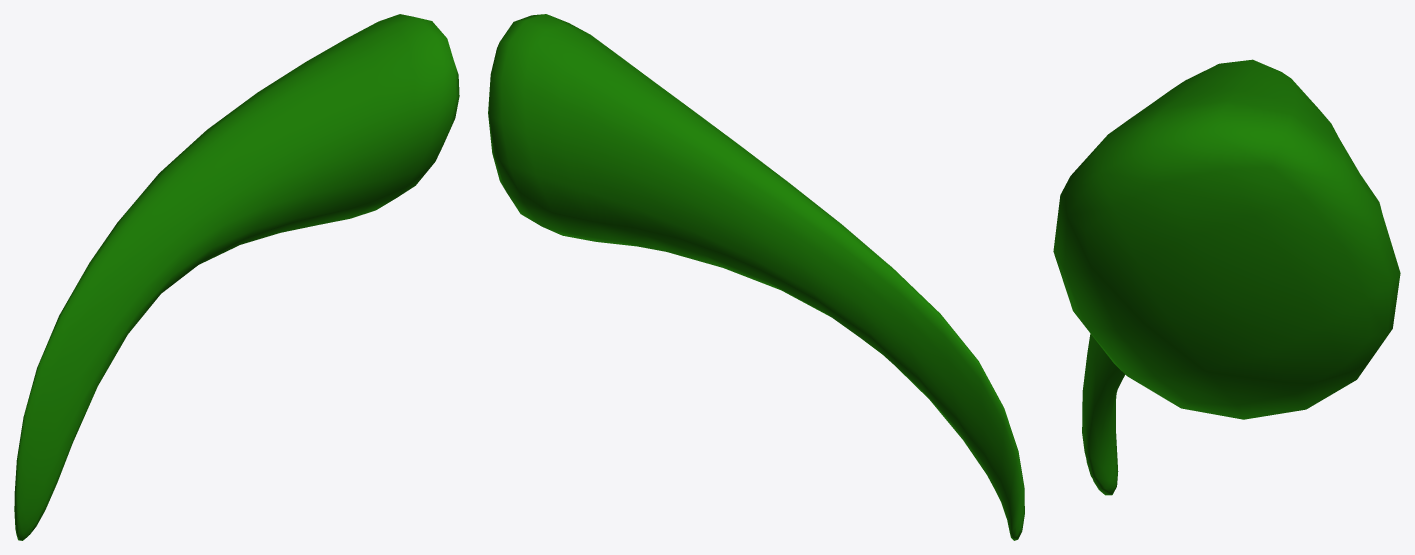
File: Tailrex.fbx
3 renders of one model, left to right at view 1: azimuth 30°, elevation 25°; view 2: azimuth 150°, elevation 25°; view 3: azimuth 270°, elevation 25°, orthographic. The views are drawn at different scales.
Visible parts, largest first — view 1: tail; view 2: tail; view 3: tail.
Boxes of the visible parts, x1,y1,x2,y2 form: tail: (14, 14, 459, 540); tail: (488, 14, 1024, 540); tail: (1053, 59, 1400, 495).
Size of the model in its own units: 443 by 374 by 148.
